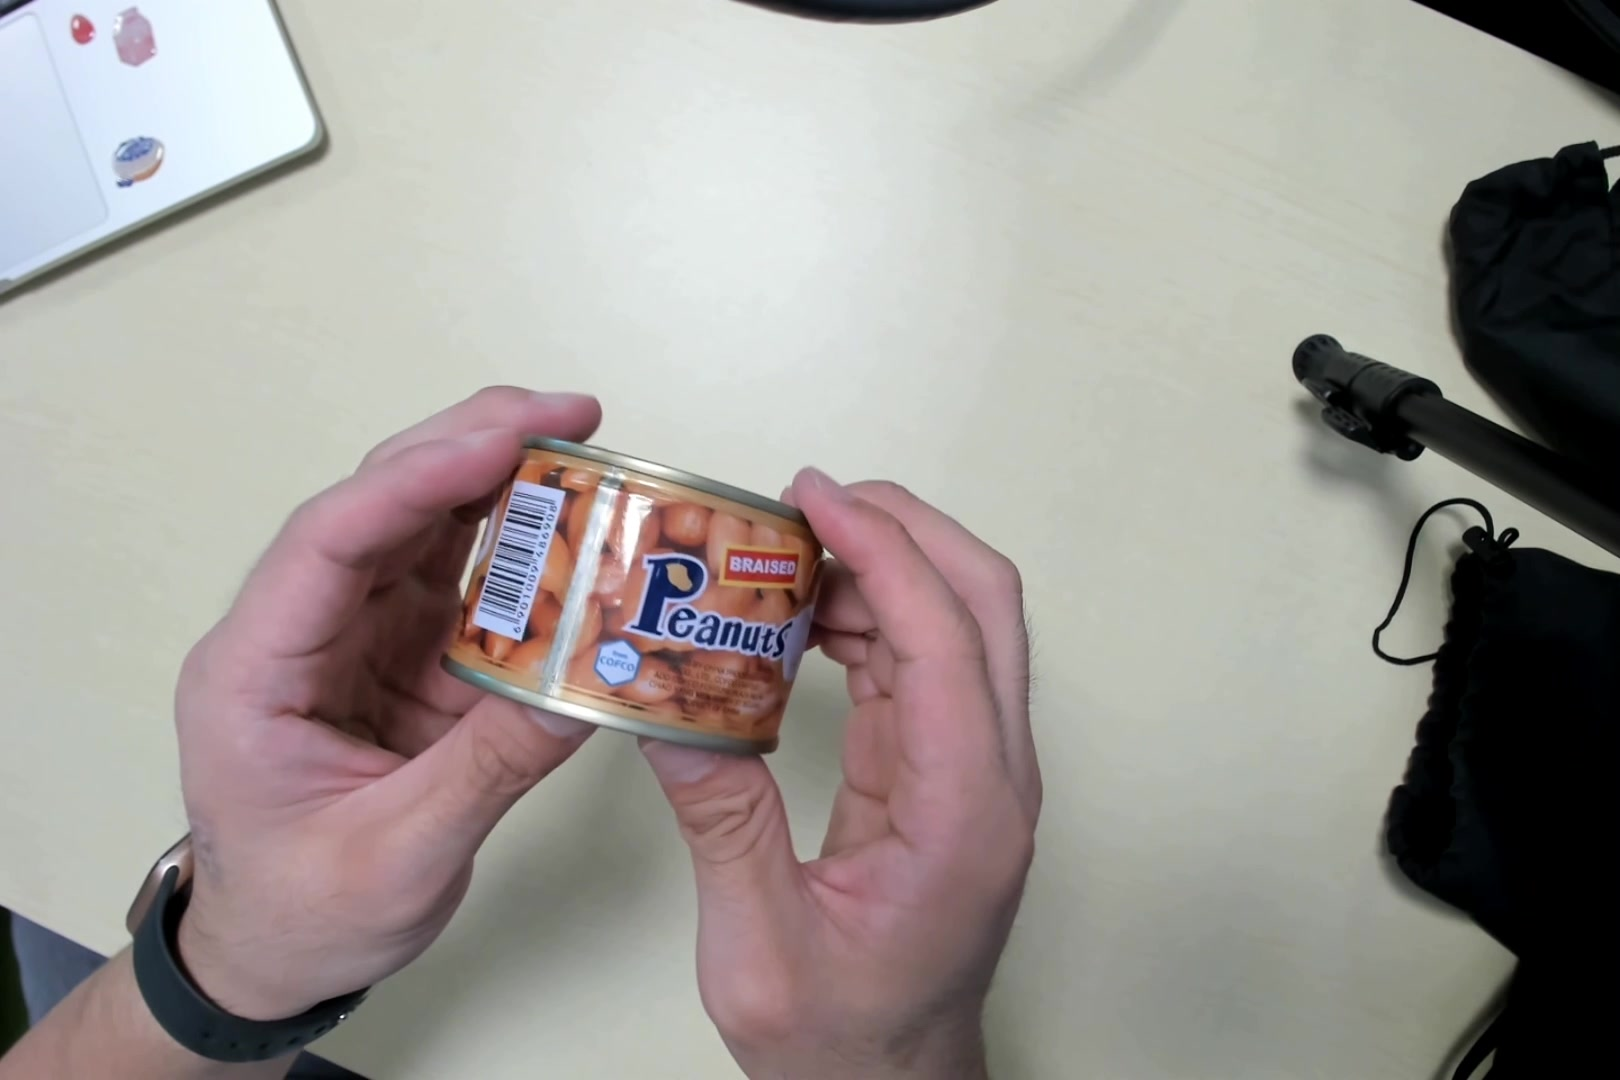CannedBraisedPeanuts_100-199g_NonHalal_NonHealthy: (448, 447, 830, 752)
